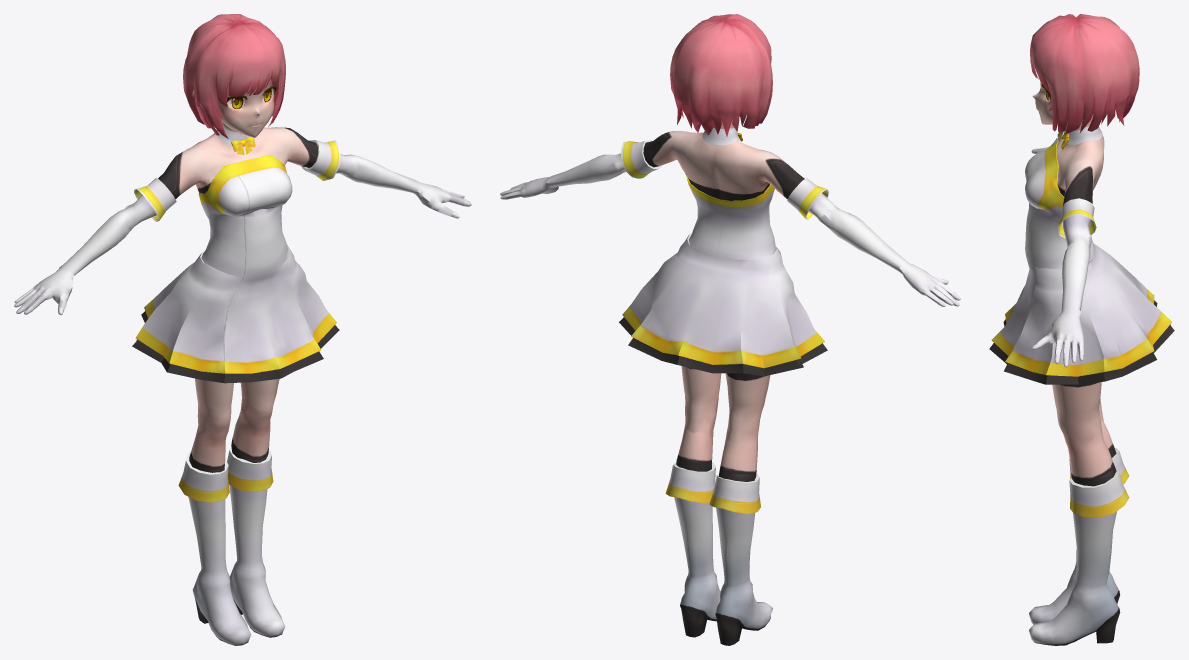
The model's file is character.fbx.
3 views of the same model, side by side, from view 1: azimuth 30°, elevation 25°; view 2: azimuth 150°, elevation 25°; view 3: azimuth 270°, elevation 25° (orthographic).
Visible parts, largest first — view 1: TEMPORARY_IMPORT_NAMESPACE___1:polySurface49, TEMPORARY_IMPORT_NAMESPACE___1:polySurface45, transform22, transform20, TEMPORARY_IMPORT_NAMESPACE___1:leftarmlonggloves1, transform6; view 2: TEMPORARY_IMPORT_NAMESPACE___1:polySurface49, transform22, TEMPORARY_IMPORT_NAMESPACE___1:polySurface45, transform20, TEMPORARY_IMPORT_NAMESPACE___1:leftarmlonggloves1; view 3: TEMPORARY_IMPORT_NAMESPACE___1:polySurface49, transform20, TEMPORARY_IMPORT_NAMESPACE___1:polySurface45, transform22, TEMPORARY_IMPORT_NAMESPACE___1:leftarmlonggloves1, transform6, TEMPORARY_IMPORT_NAMESPACE___1:collar.
Boxes of the visible parts, x1,y1,x2,y2 form: TEMPORARY_IMPORT_NAMESPACE___1:polySurface49: (132, 155, 339, 383); TEMPORARY_IMPORT_NAMESPACE___1:polySurface45: (178, 444, 285, 645); transform22: (158, 123, 317, 472); transform20: (183, 14, 285, 138); TEMPORARY_IMPORT_NAMESPACE___1:leftarmlonggloves1: (14, 140, 471, 315); transform6: (192, 74, 274, 137); TEMPORARY_IMPORT_NAMESPACE___1:polySurface49: (619, 175, 827, 376); transform22: (643, 119, 804, 481); TEMPORARY_IMPORT_NAMESPACE___1:polySurface45: (665, 462, 772, 645); transform20: (670, 14, 772, 136); TEMPORARY_IMPORT_NAMESPACE___1:leftarmlonggloves1: (500, 140, 960, 306); TEMPORARY_IMPORT_NAMESPACE___1:polySurface49: (989, 141, 1174, 384); transform20: (1030, 14, 1139, 134); TEMPORARY_IMPORT_NAMESPACE___1:polySurface45: (1029, 448, 1129, 645); transform22: (1052, 116, 1116, 486); TEMPORARY_IMPORT_NAMESPACE___1:leftarmlonggloves1: (1031, 123, 1096, 367); transform6: (1032, 81, 1094, 124); TEMPORARY_IMPORT_NAMESPACE___1:collar: (1067, 126, 1102, 145).
Bounding box in the file's own units: 124 × 158 × 43.26.
Materials: 5 (5 with a texture image).
